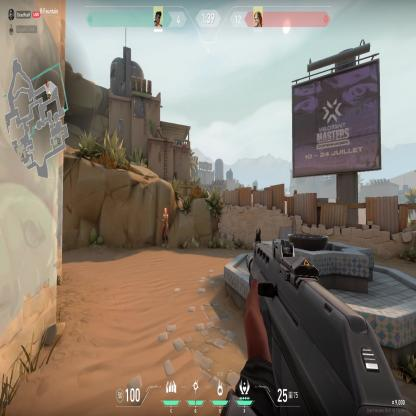enemy: (160, 206, 170, 248)
